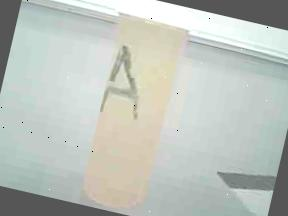Bottle A: (61, 0, 199, 216)
